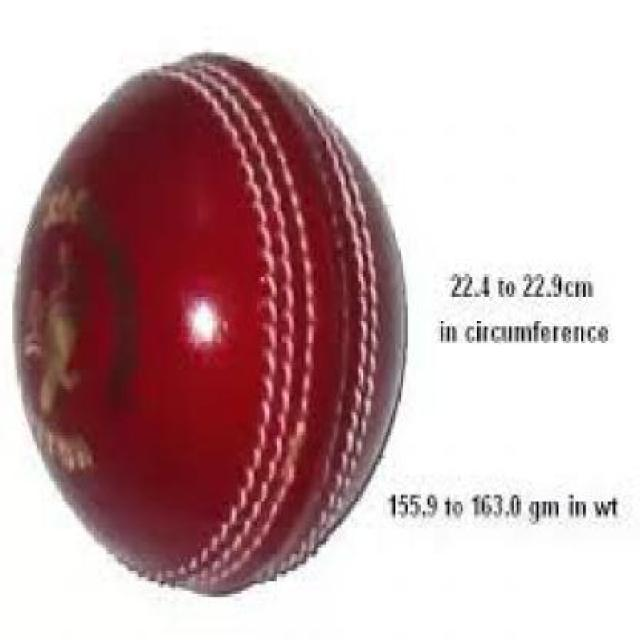ball: (3, 21, 431, 619)
